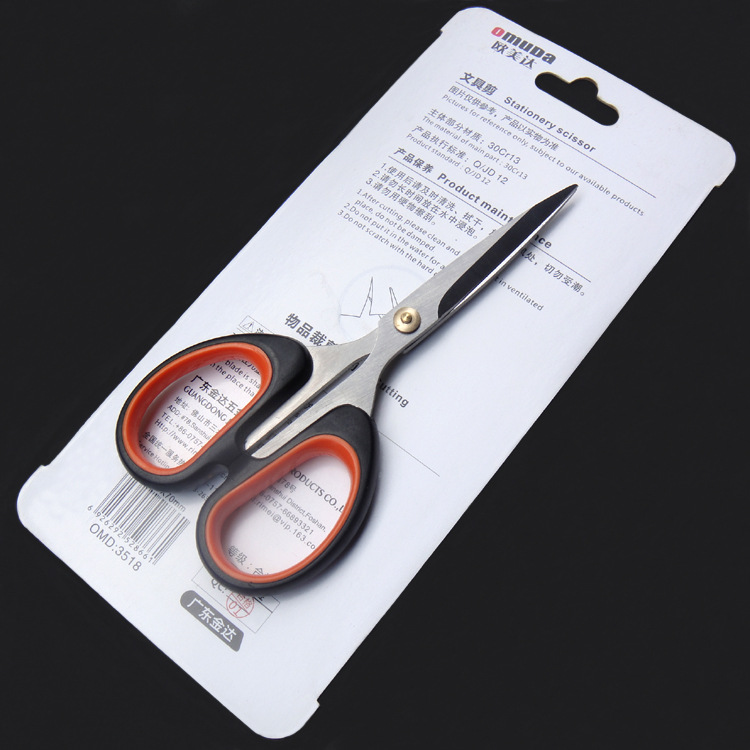scissors: (98, 180, 606, 629)
